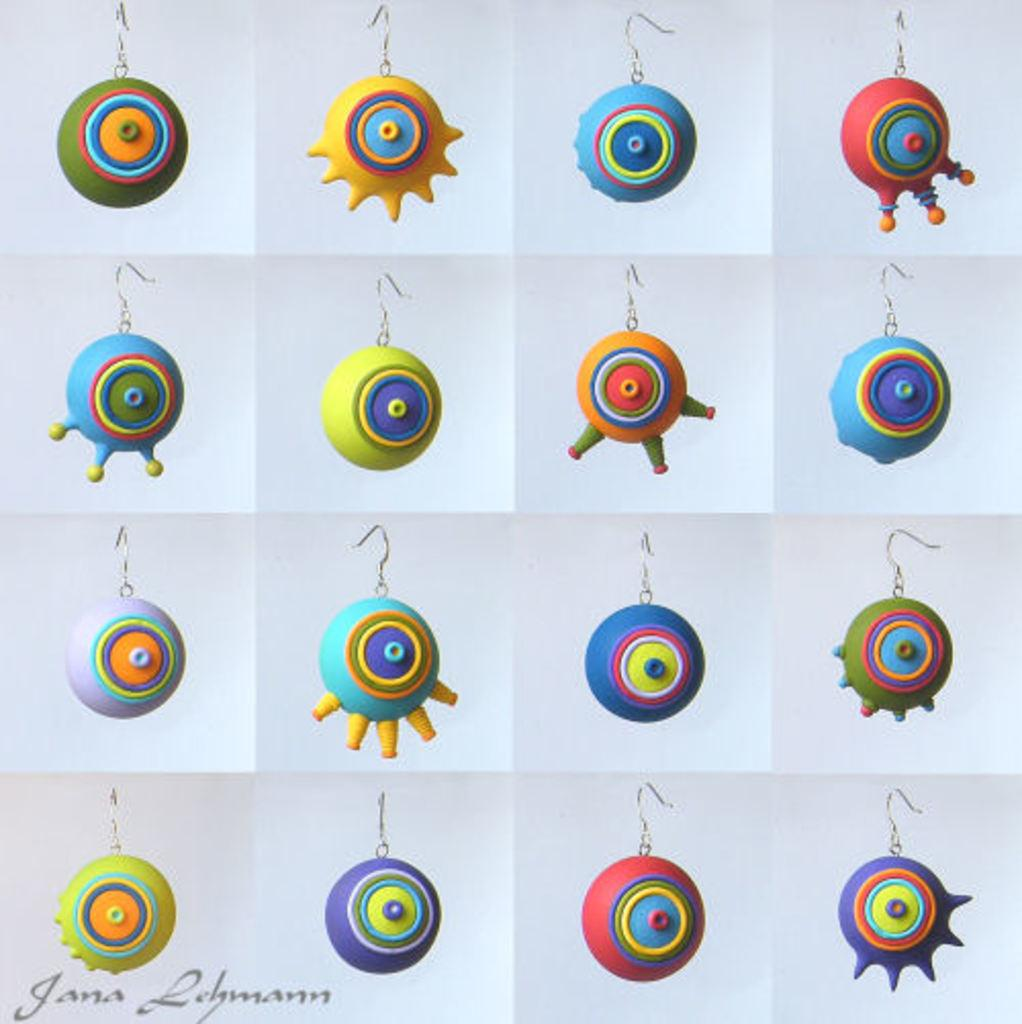earring: (305, 516, 454, 757), (303, 1, 460, 221), (41, 256, 185, 481), (837, 1, 976, 232), (567, 258, 716, 471), (826, 783, 965, 996), (56, 0, 189, 209), (575, 773, 704, 982), (822, 260, 947, 465), (567, 11, 700, 203), (319, 270, 446, 471), (828, 522, 953, 724), (579, 528, 704, 722), (62, 522, 182, 722), (54, 777, 174, 971), (321, 783, 438, 971)
